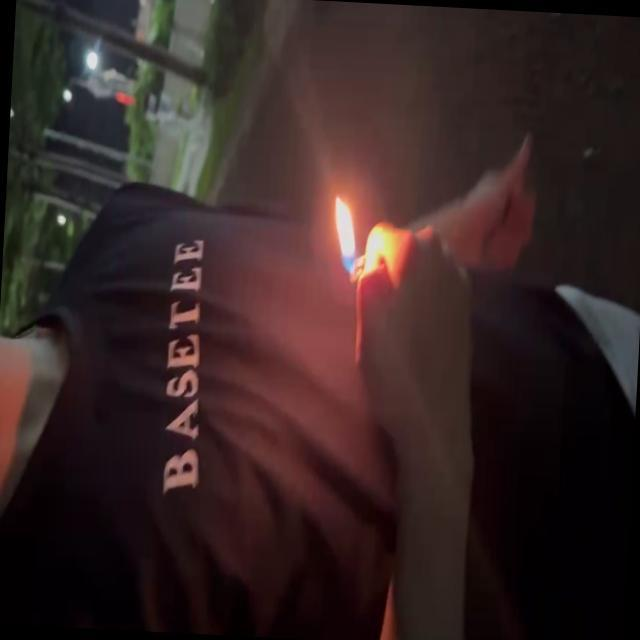Fire: (326, 192, 364, 284)
